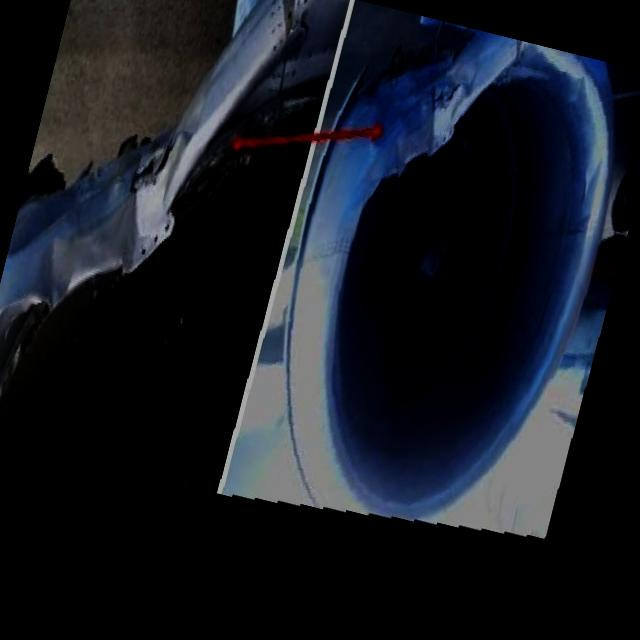dent: (109, 175, 168, 268), (30, 232, 78, 303)
